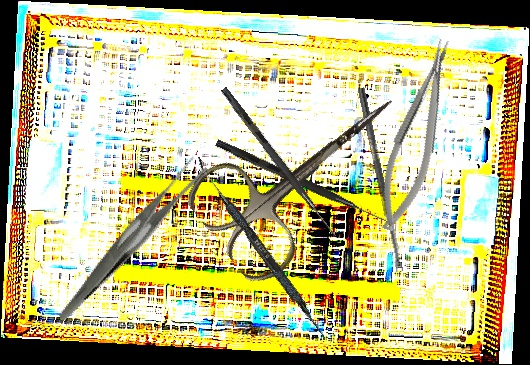Dressing Forceps: (23, 153, 238, 322)
Hook Surgical: (219, 86, 340, 239), (214, 139, 390, 225)
Iris Scissors: (177, 52, 433, 292)
Needle Holder: (365, 34, 471, 237)
Spatula Surgical: (189, 156, 333, 342)
Surgical Spoon: (356, 87, 404, 273)
